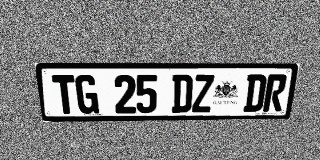2: (114, 75, 136, 113)
5: (136, 75, 157, 113)
D: (243, 74, 267, 112), (171, 75, 193, 113)
G: (75, 75, 99, 114)
R: (263, 74, 288, 112)
T: (52, 75, 77, 114)
Z: (192, 75, 214, 112)
